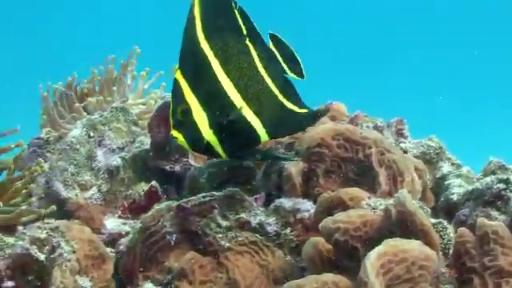Fish: (169, 0, 326, 159)
